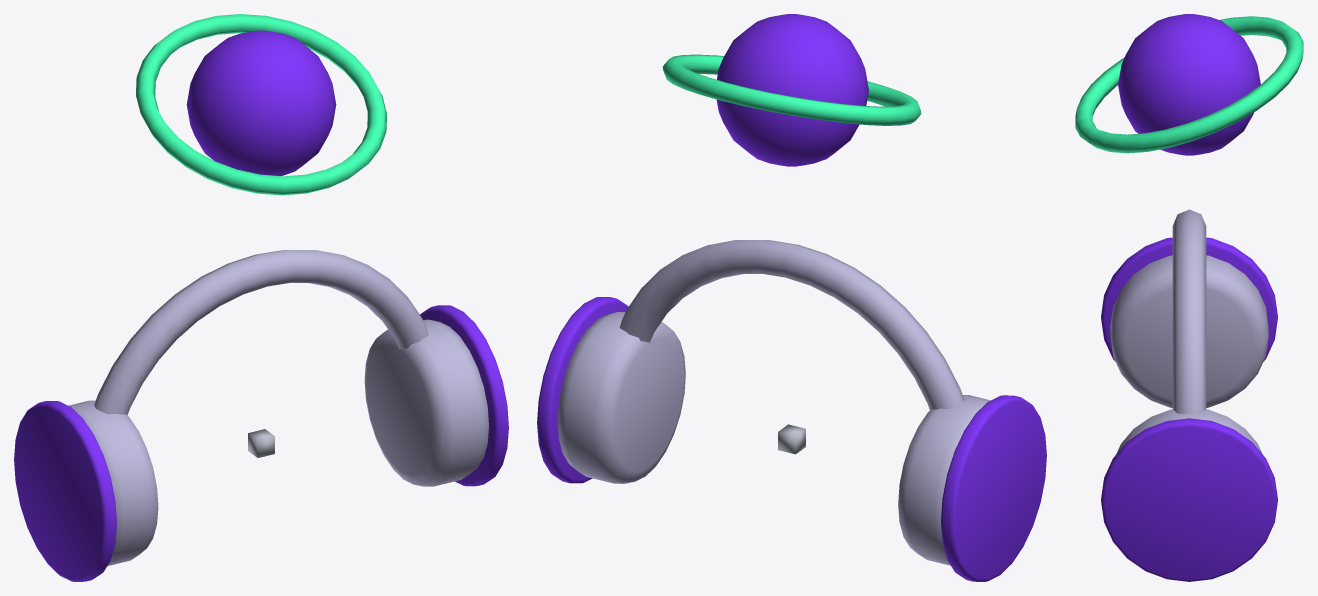
The model's file is Astral.fbx.
3 views of the same model, side by side, from view 1: azimuth 30°, elevation 25°; view 2: azimuth 150°, elevation 25°; view 3: azimuth 270°, elevation 25° (orthographic). The views are drawn at different scales.
Visible parts, largest first — view 1: Lilac, Float_Spin_Planet, Pulse_Ring-1, Float_Spin_PlanetRing, Pulse_Ring1, KitOrigin; view 2: Lilac, Float_Spin_Planet, Pulse_Ring-1, Float_Spin_PlanetRing, Pulse_Ring1, KitOrigin; view 3: Pulse_Ring1, Lilac, Float_Spin_Planet, Float_Spin_PlanetRing, Pulse_Ring-1.
Boxes of the visible parts, x1,y1,x2,y2 form: Lilac: (68, 250, 488, 565); Float_Spin_Planet: (186, 30, 336, 175); Pulse_Ring-1: (14, 401, 116, 581); Float_Spin_PlanetRing: (136, 14, 386, 195); Pulse_Ring1: (420, 305, 508, 486); KitOrigin: (248, 429, 274, 457); Lilac: (557, 240, 990, 565); Float_Spin_Planet: (716, 14, 868, 166); Pulse_Ring-1: (941, 395, 1046, 581); Float_Spin_PlanetRing: (662, 54, 921, 125); Pulse_Ring1: (537, 297, 628, 483); KitOrigin: (778, 424, 805, 454); Pulse_Ring1: (1101, 418, 1277, 581); Lilac: (1110, 209, 1268, 454); Float_Spin_Planet: (1118, 14, 1260, 155); Float_Spin_PlanetRing: (1075, 16, 1303, 153); Pulse_Ring-1: (1101, 237, 1277, 361).
Bounding box in the file's own units: 2.38 × 2.75 × 1.21.
